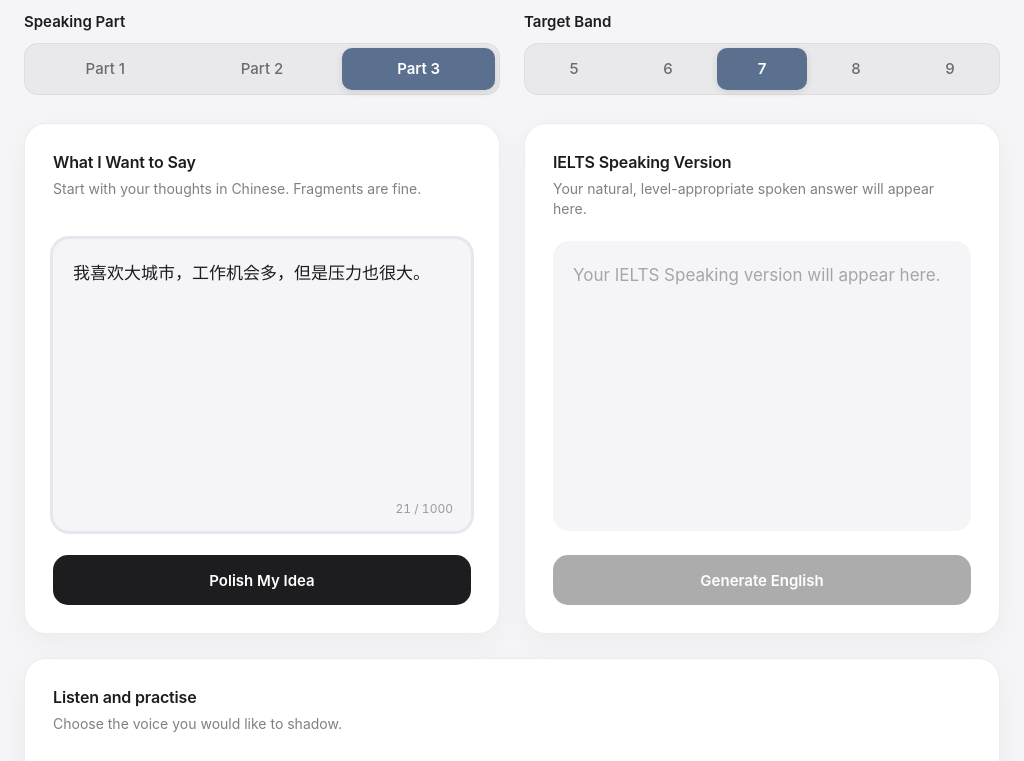
Test case: AccentForge four-profile V1 workflow › prevents duplicate speech requests while synthesis is in flight
Earlier steps of the test are not shown.
Later steps or results of the test are not shown.
(page scrolled)
Click the button "Polish My Idea".
click(262, 580)  # box top-left (53, 555), bottom-right (471, 605)
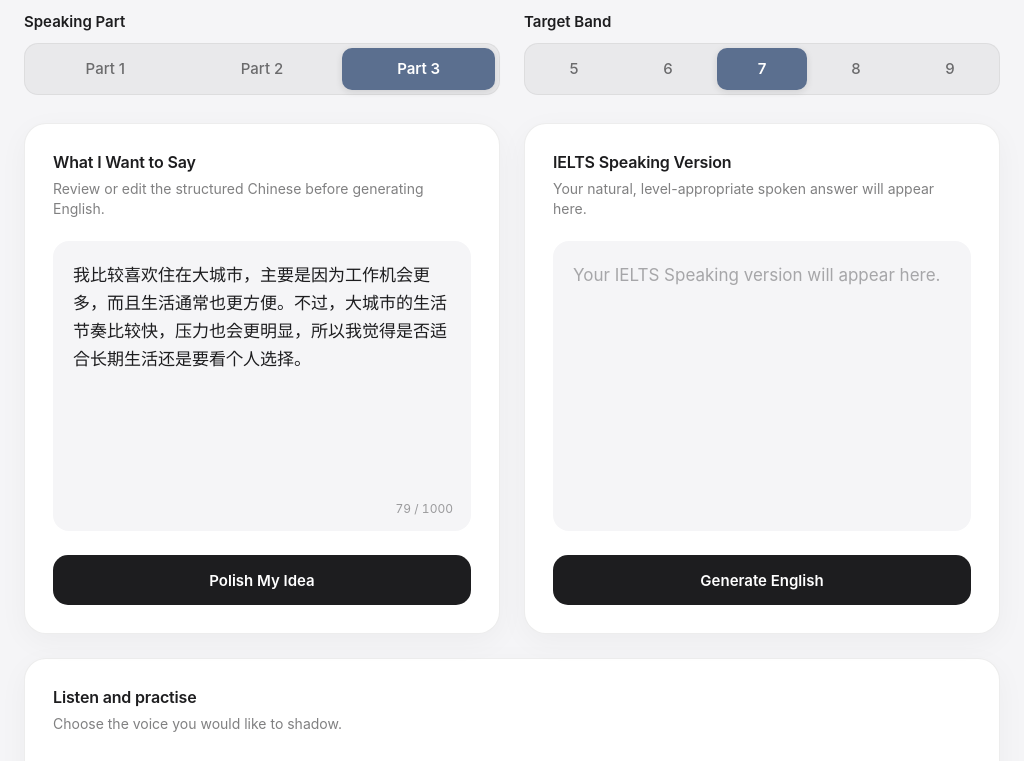
Now the text box showing "我比较喜欢住在大城市，主要是因为工作机会更多，而且生活通常也更方便。不过，大城市的生活节奏比较快，压力也会更明显，所以我觉得是否适合长期生活还是要看个人选择。" is shown, box top-left (53, 241), bottom-right (471, 531)
Click the button "Generate English".
click(762, 580)  # box top-left (553, 555), bottom-right (971, 605)
(page scrolled)
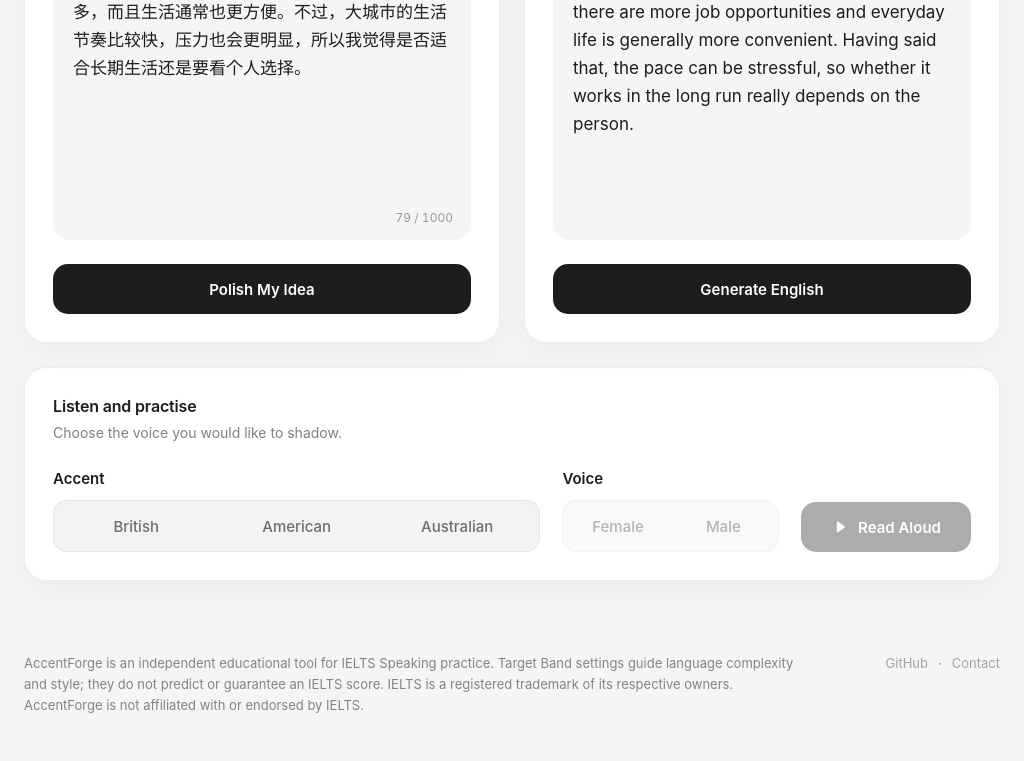
Click the button "Australian".
click(457, 526)  # box top-left (379, 505), bottom-right (535, 547)
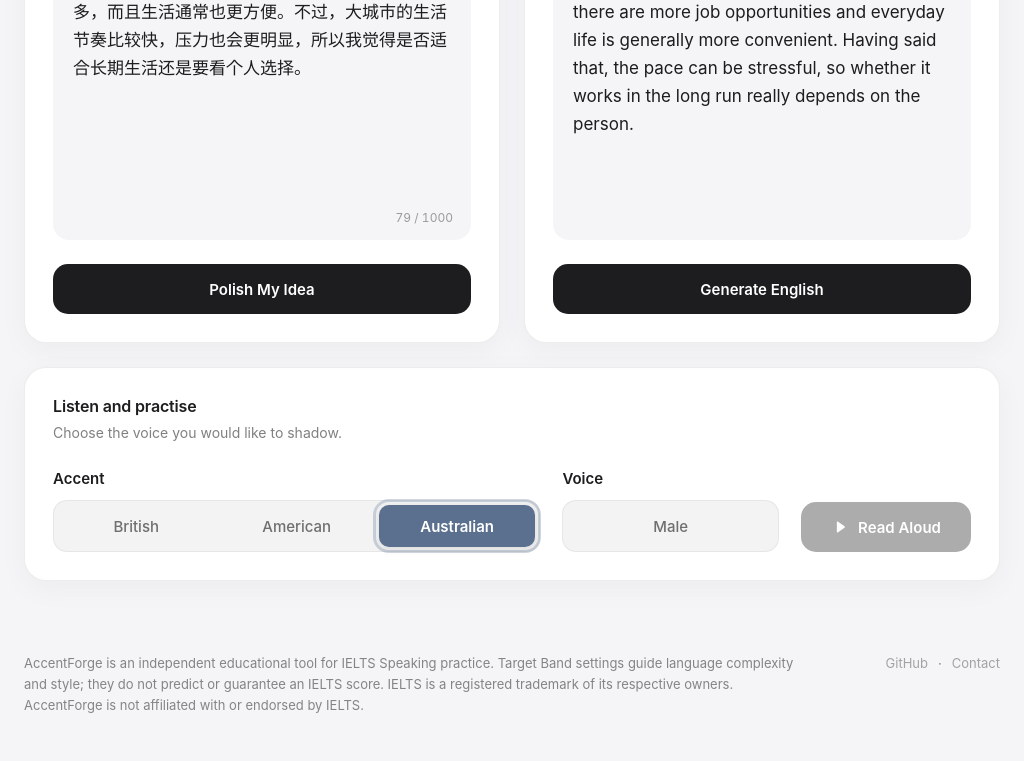
Click the button "Male".
click(671, 526)  # box top-left (567, 505), bottom-right (774, 547)
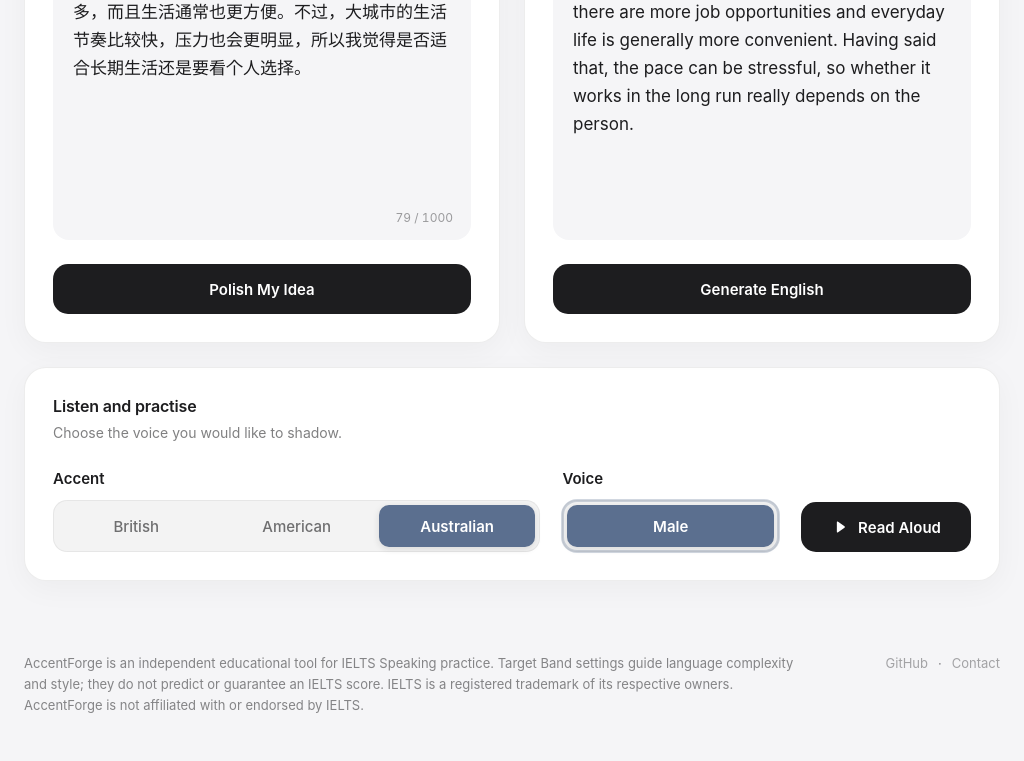
Click the button "Read Aloud".
click(886, 527)  # box top-left (801, 502), bottom-right (971, 552)
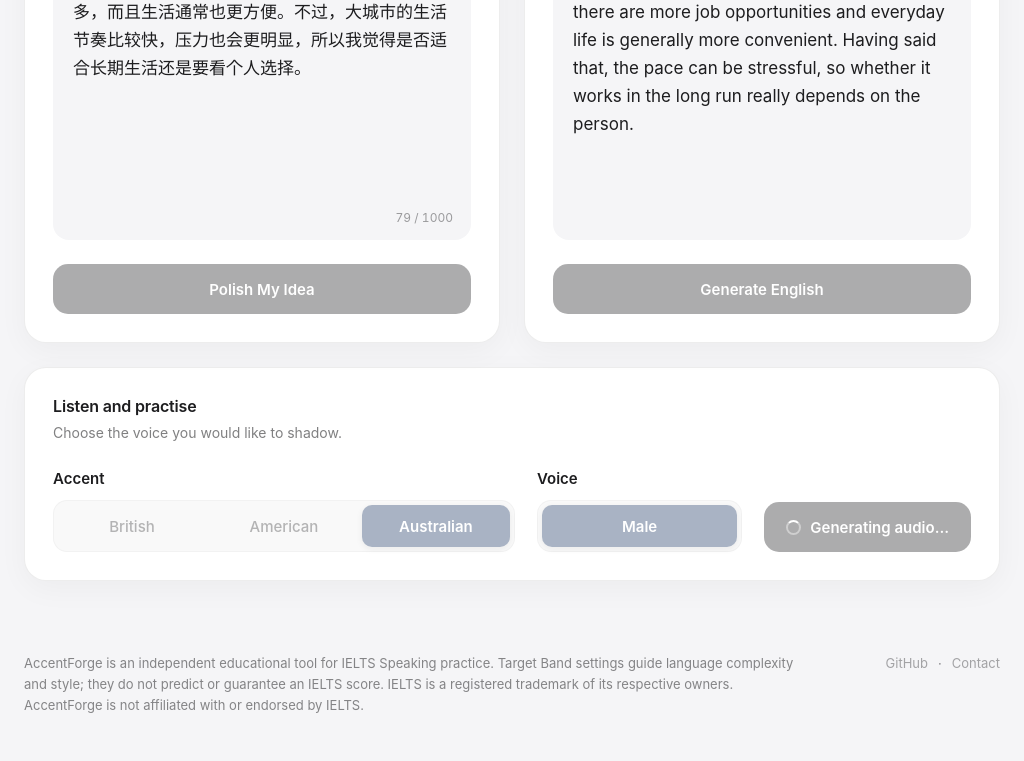
Click the button named "Read Aloud".
click(868, 527)  # box top-left (764, 502), bottom-right (971, 552)
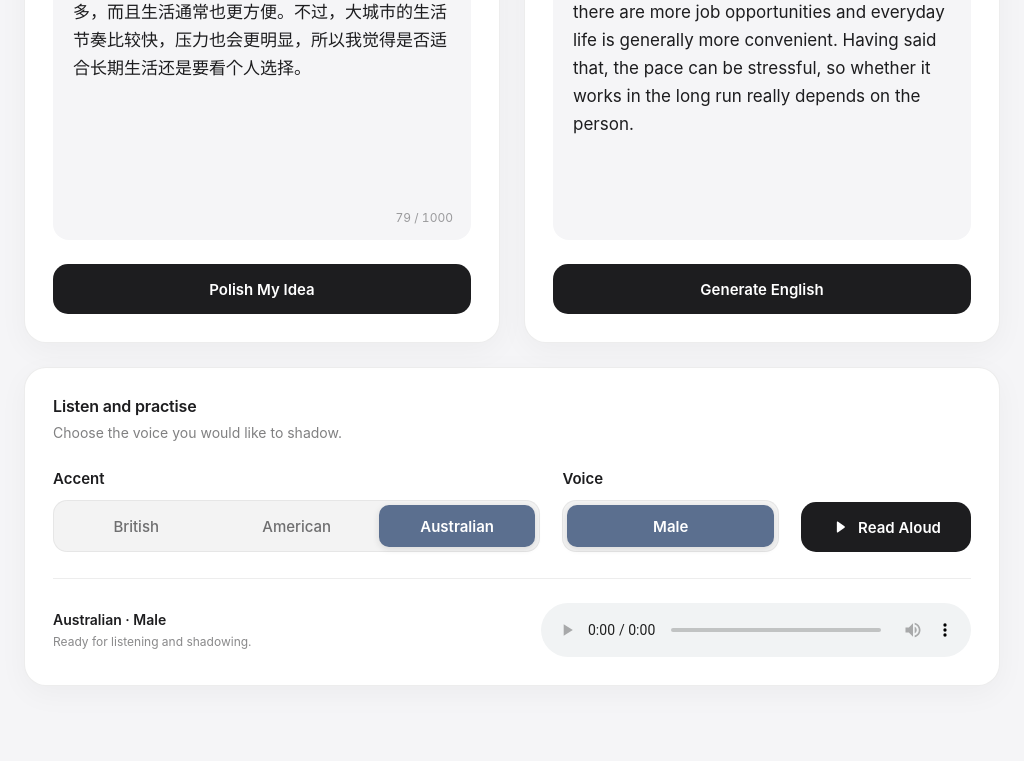
Now the text "Your browser does not support audio playback." is shown, box top-left (541, 603), bottom-right (971, 657)
